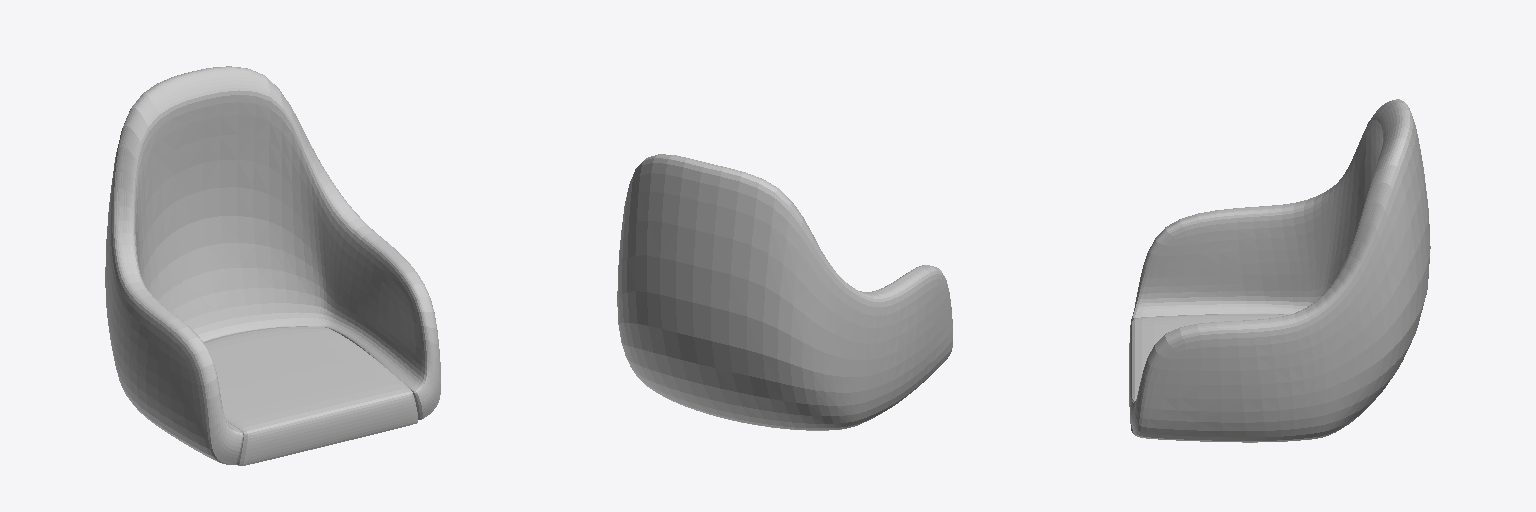
File: housesp_126.obj
3 renders of one model, left to right at view 1: azimuth 30°, elevation 25°; view 2: azimuth 150°, elevation 25°; view 3: azimuth 270°, elevation 25°, orthographic.
Size of the model in its own units: 72.8 by 74.32 by 73.56.